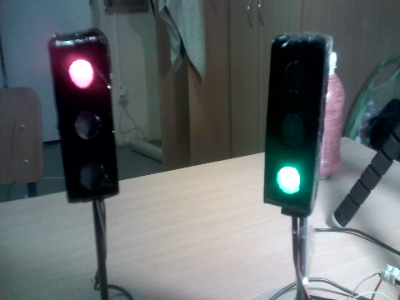trafficlight_green: (264, 42, 321, 205)
trafficlight_red: (55, 43, 118, 192)
